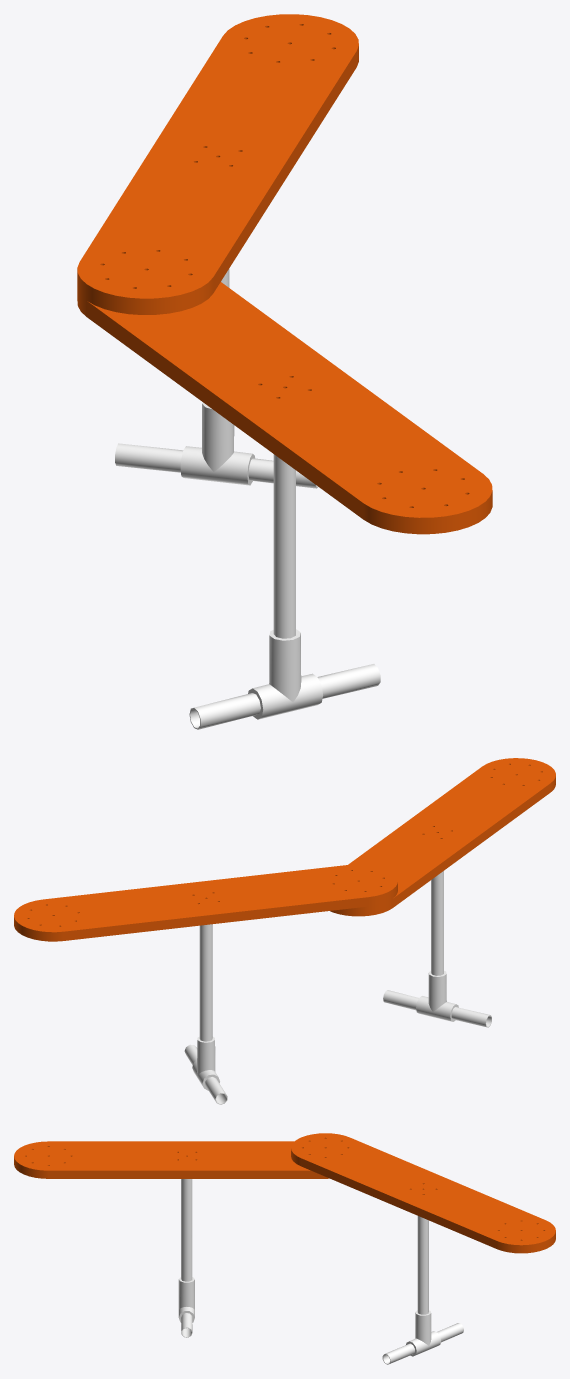
The model's file is pathmarker7.dae.
3 renders of one model, top to bottom at view 1: azimuth 30°, elevation 25°; view 2: azimuth 150°, elevation 25°; view 3: azimuth 270°, elevation 25°, orthographic. The views are drawn at different scales.
Parts seen in each view (by area): view 1: path_marker.001; view 2: path_marker.001; view 3: path_marker.001.
Part boxes in pixels (box(x1,y1,x2,y2)): path_marker.001: box(77, 14, 492, 729); path_marker.001: box(14, 758, 555, 1104); path_marker.001: box(14, 1133, 555, 1364).
Bounding box in the file's own units: 0.6216 × 1.19 × 0.4125.
Materials: 2 (1 with a texture image).
